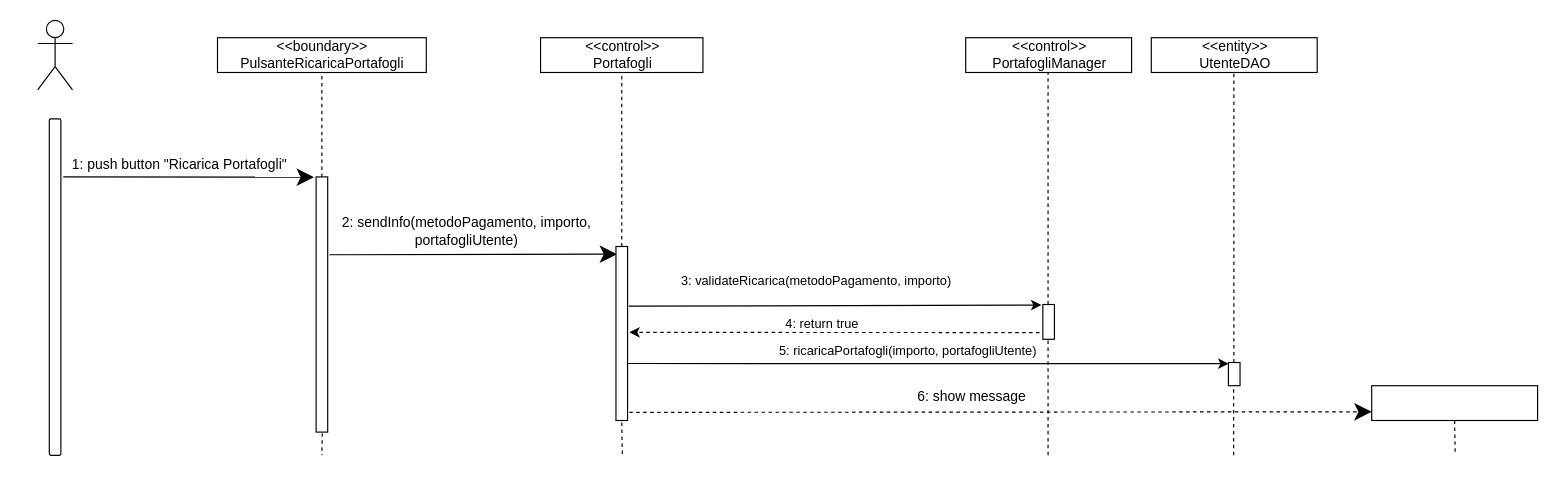
The diagram is 1558 pixels wide and 477 high, and some of its shapes have lost their labels. The shapes that lost their labels are listed below. From the top down, each one's box as (x1, y1, x2, y2) in pixels, then its label:
(37, 19, 72, 90): Utente
(1371, 385, 1538, 420): <<boundary>> NotificaPortafogliRicaricato
